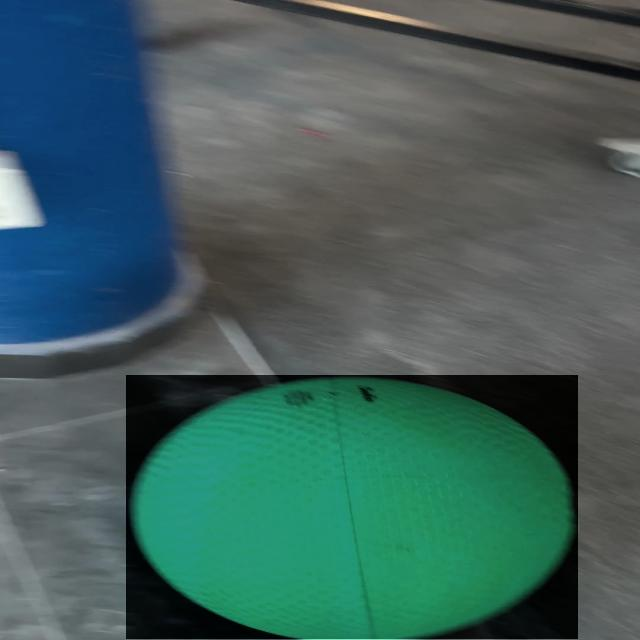Algae: (126, 375, 578, 639)
